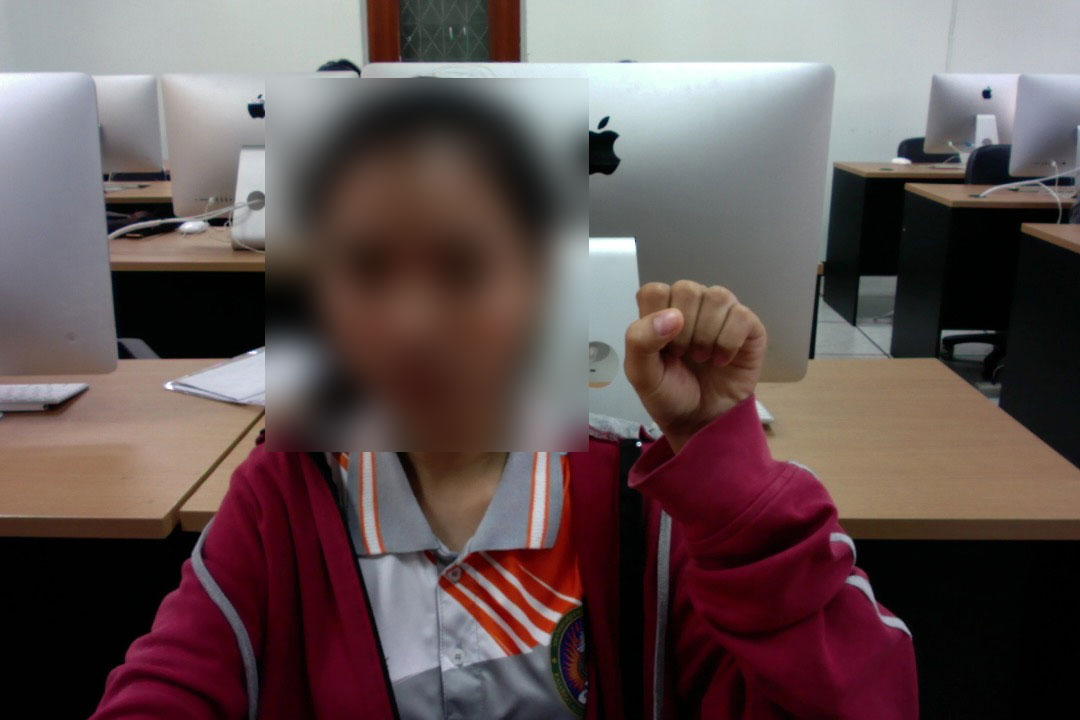sor: (616, 272, 771, 460)
